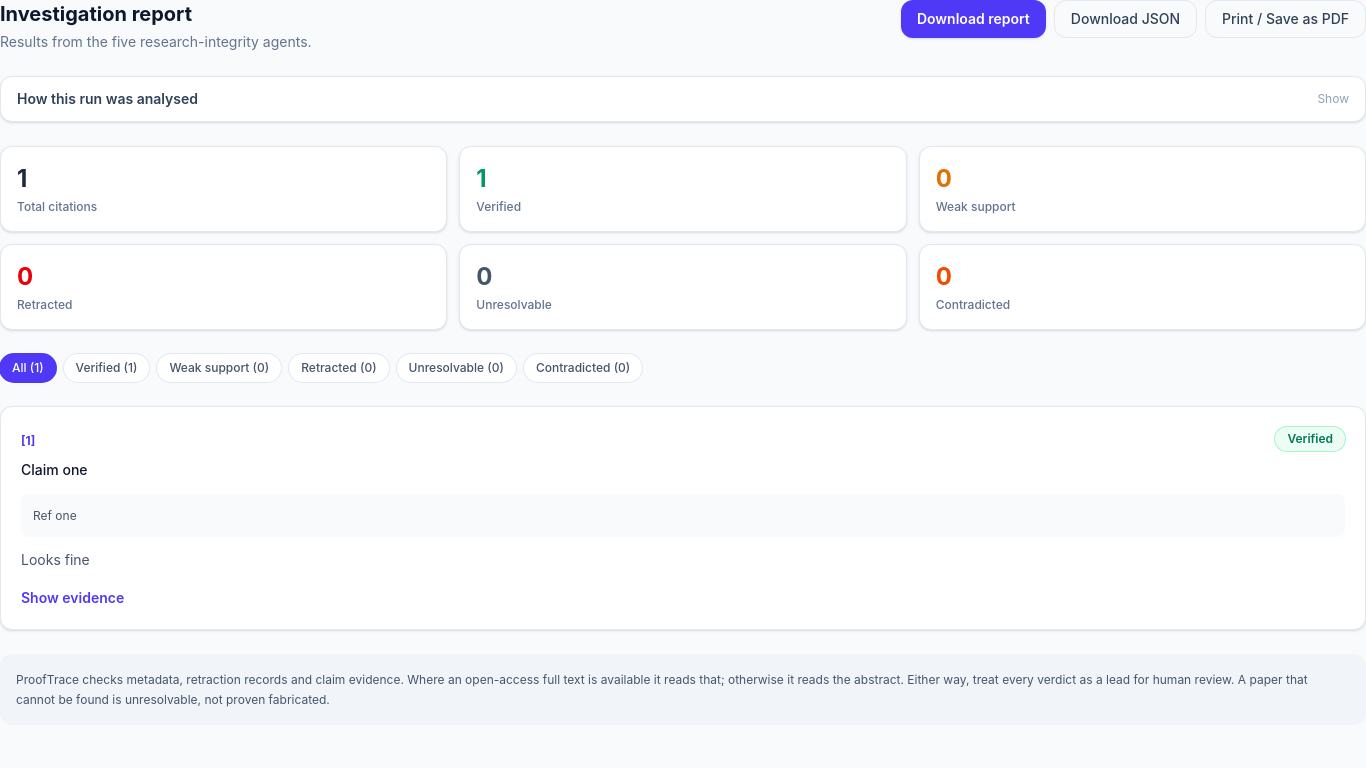
Test: shows corrections and the AI method badge
Click the button "Show evidence".
click(73, 598)  # box x1=21 y1=588 x2=124 y2=608
(page scrolled)
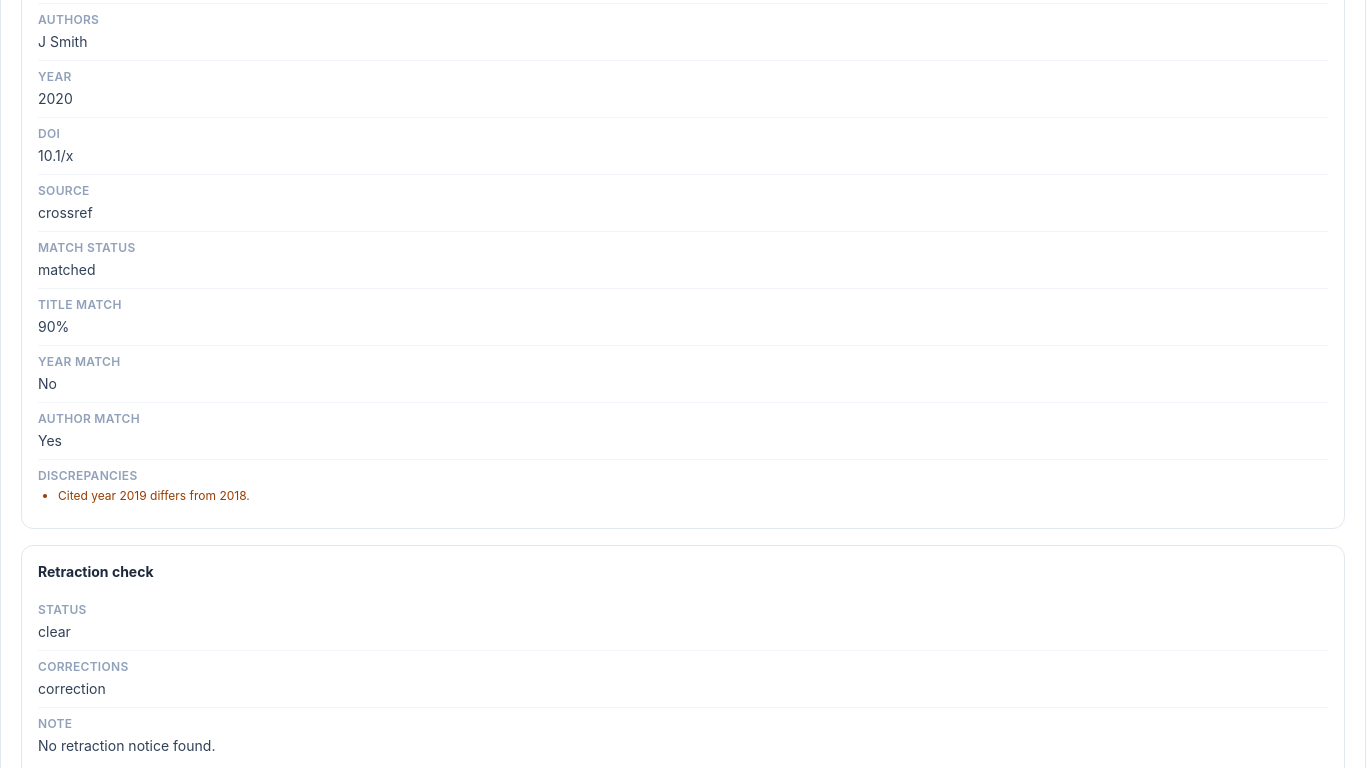
Check: the text "Corrections" is shown, box x1=38 y1=659 x2=128 y2=674
Check: the text "correction" is shown, box x1=38 y1=680 x2=106 y2=697
Check: the text "No" is shown, box x1=38 y1=375 x2=57 y2=392
